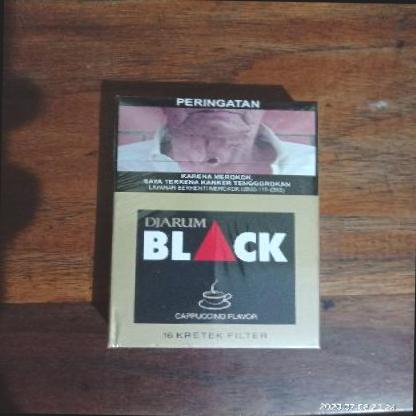objects: (108, 96, 323, 350)
